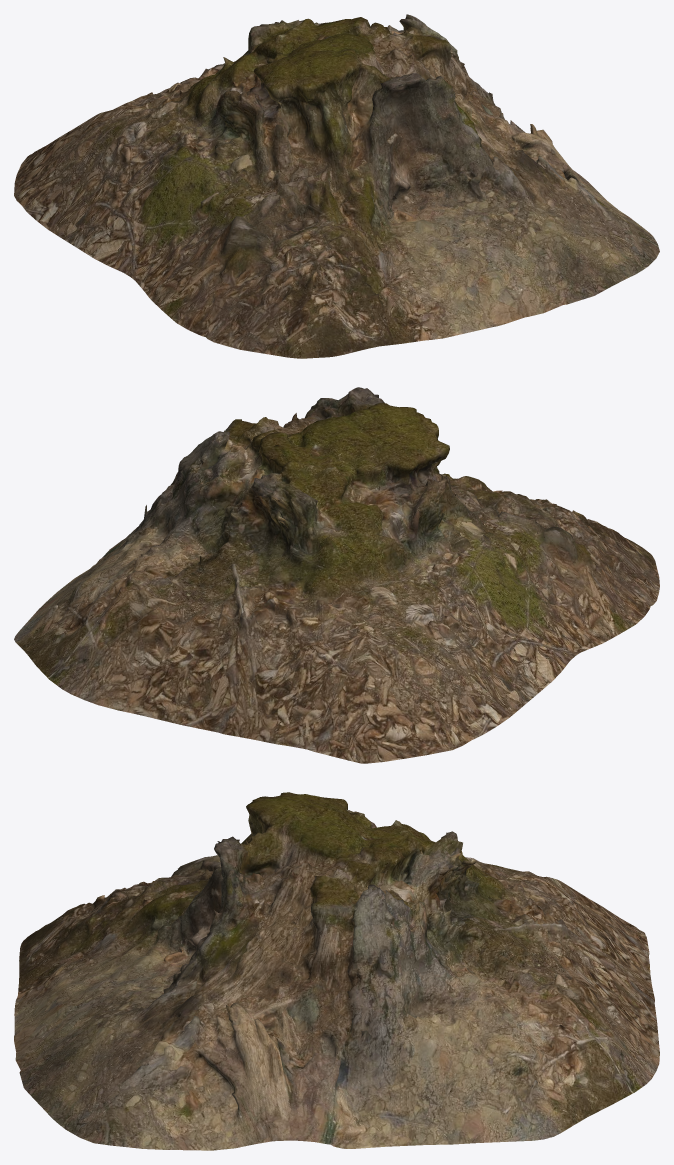
The model's file is tree_stump_01_mobile.glb.
3 views of the same model, one above another, from view 1: azimuth 30°, elevation 25°; view 2: azimuth 150°, elevation 25°; view 3: azimuth 270°, elevation 25° (orthographic). The views are drawn at different scales.
Parts seen in each view (by area): view 1: tree_stump_01; view 2: tree_stump_01; view 3: tree_stump_01.
Part boxes in pixels (left/top/right/bottom): tree_stump_01: left=14, top=14, right=659, bottom=358; tree_stump_01: left=14, top=387, right=659, bottom=763; tree_stump_01: left=14, top=792, right=659, bottom=1150.
Size of the model in its own units: 1.43 by 0.5725 by 1.59.
Materials: 1 (1 with a texture image).
